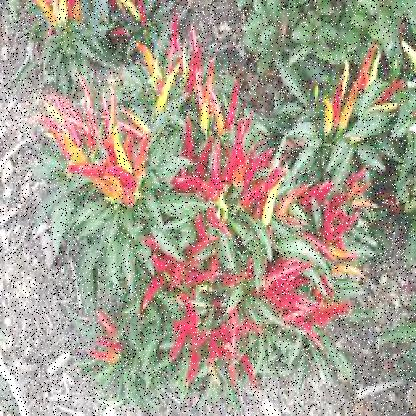chili: (232, 171, 288, 208), (64, 116, 98, 150), (168, 326, 192, 367), (139, 273, 167, 308), (266, 260, 311, 281), (226, 305, 243, 356), (302, 182, 331, 211), (179, 114, 198, 158), (96, 165, 141, 183)
